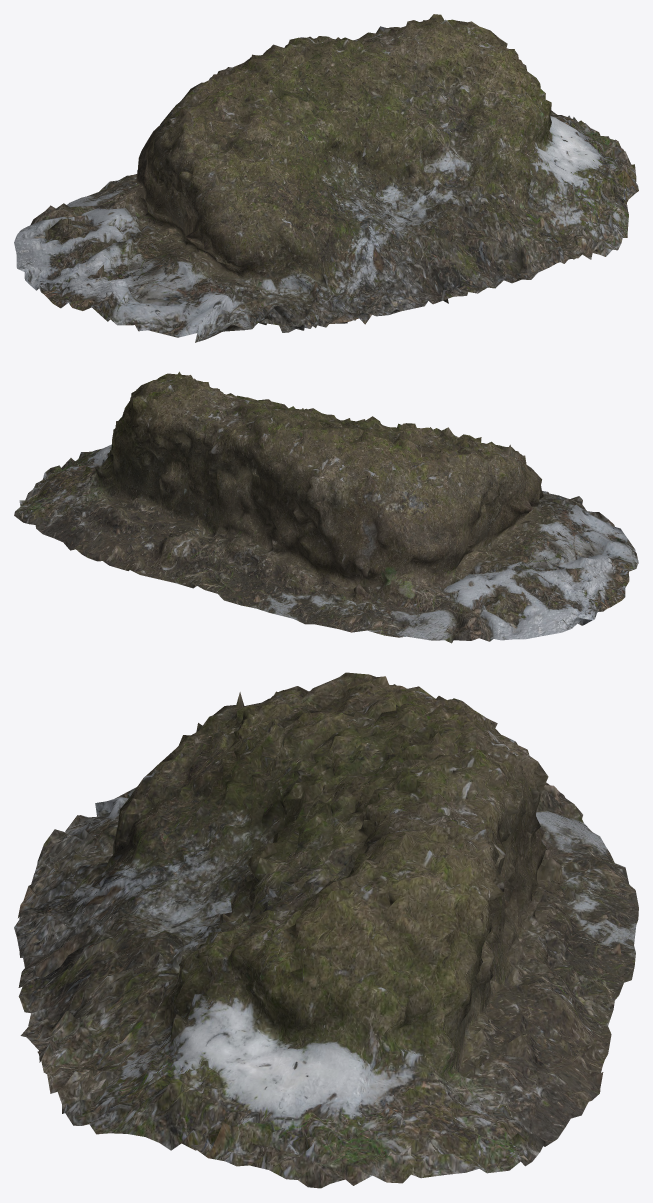
File: PX_Mossy_Stone_01_LOD2.fbx
3 renders of one model, top to bottom at view 1: azimuth 30°, elevation 25°; view 2: azimuth 150°, elevation 25°; view 3: azimuth 270°, elevation 25°, orthographic. The views are drawn at different scales.
Parts seen in each view (by area): view 1: PX_Mossy_Stone_01_LOD2; view 2: PX_Mossy_Stone_01_LOD2; view 3: PX_Mossy_Stone_01_LOD2.
Boxes of the visible parts, box(x1,y1,x2,y2) form: PX_Mossy_Stone_01_LOD2: box(14, 14, 638, 342); PX_Mossy_Stone_01_LOD2: box(14, 371, 638, 643); PX_Mossy_Stone_01_LOD2: box(14, 672, 638, 1188).
Bounding box in the file's own units: 241 × 63.99 × 149.
